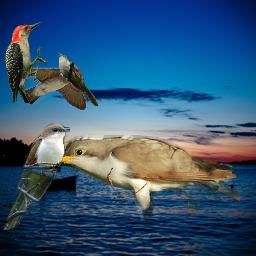Cuckoo: (45, 135, 240, 228), (3, 122, 70, 230), (58, 53, 99, 106)
Swallow: (11, 67, 87, 110)
Woodpecker: (5, 22, 48, 103)
